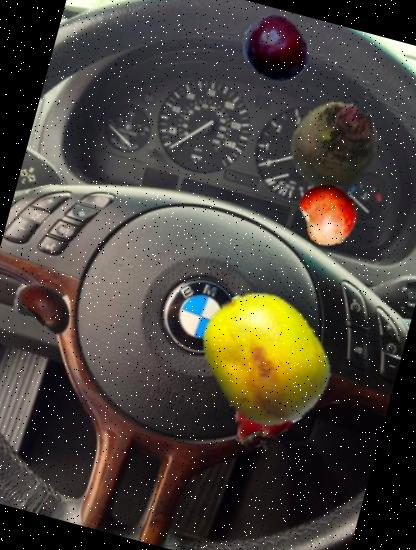Beetroot: (269, 78, 402, 212)
Chestnut: (10, 268, 86, 344)
Nectarine: (291, 176, 368, 252)
Pitahaya: (216, 356, 325, 465)
Plum: (234, 6, 319, 91)
Pomelo: (182, 274, 352, 444)
